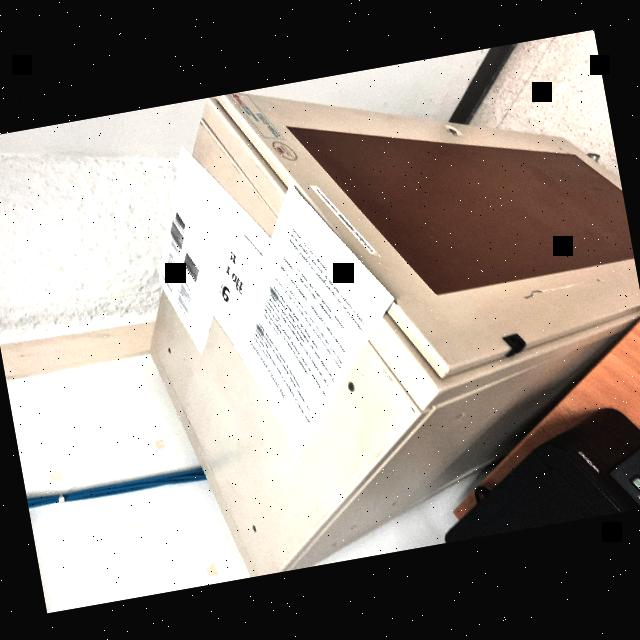reuseable_paper: (205, 164, 415, 464), (128, 128, 292, 358)
